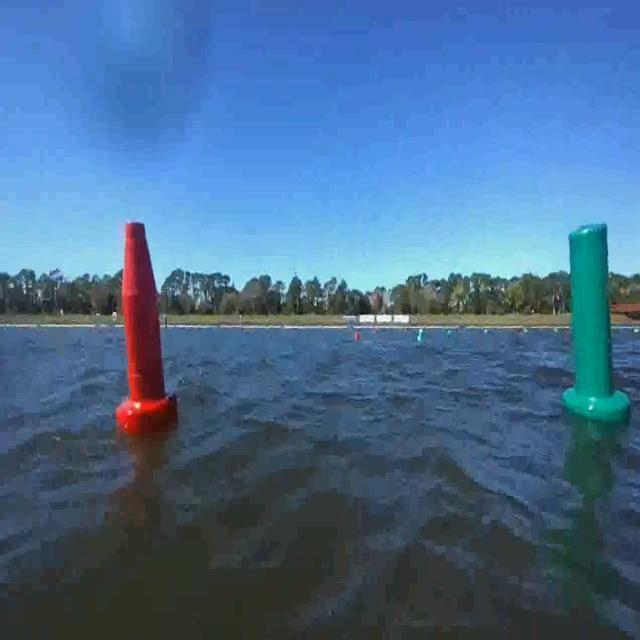green-column-buoy: (564, 225, 630, 424)
red-column-buoy: (118, 218, 178, 435)
